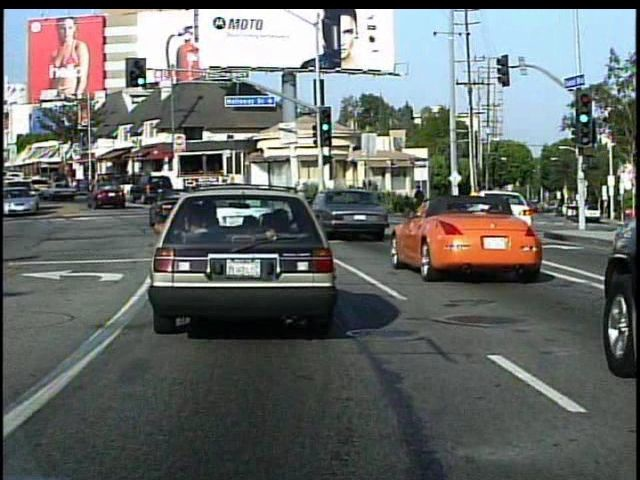person: (412, 182, 429, 223), (464, 186, 482, 224)
